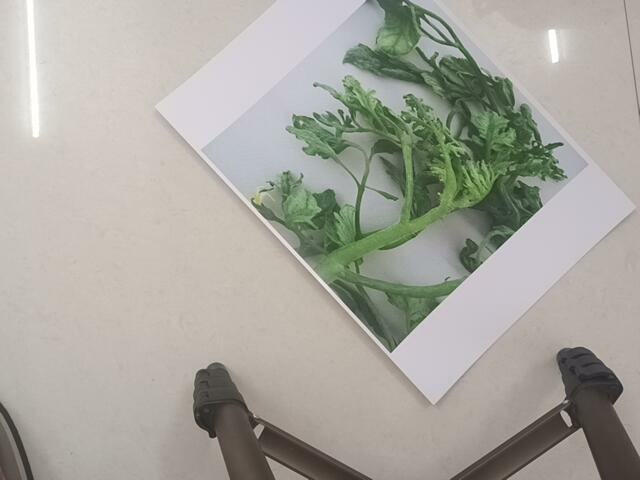Tomamto_Mosaic_virus: (251, 13, 538, 333)
